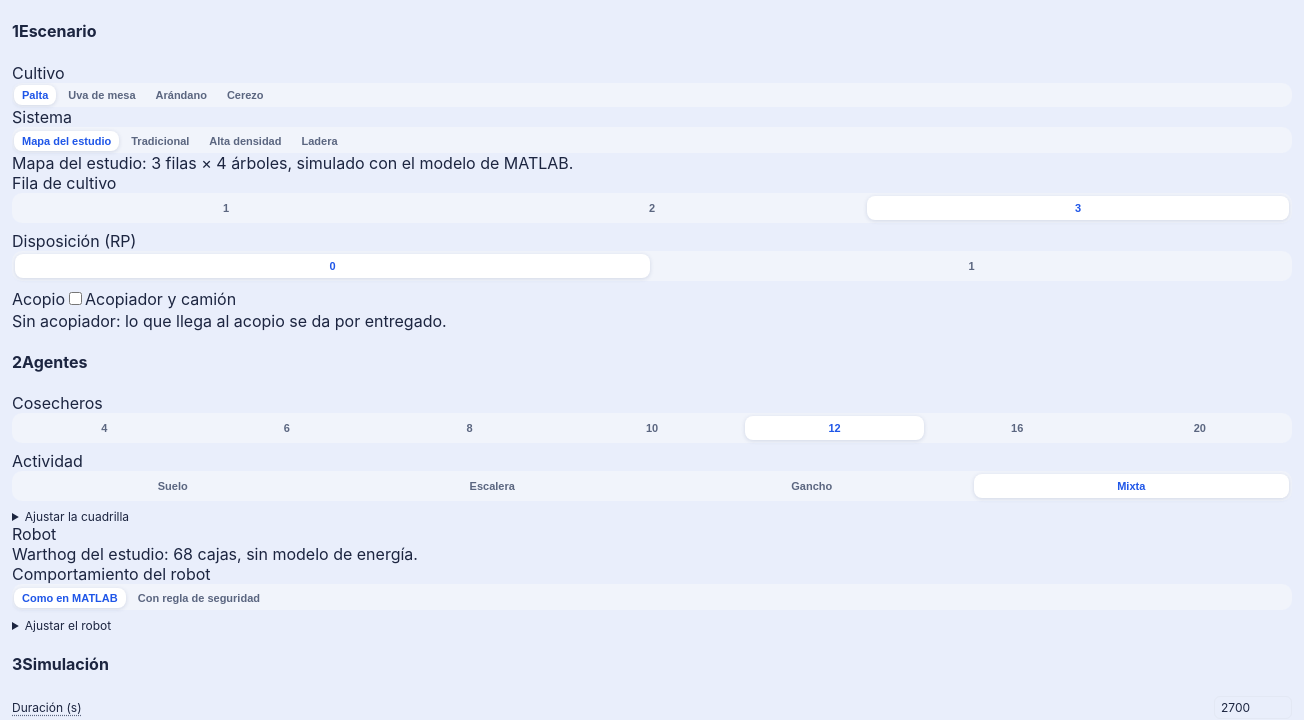
Test: SimSteps (panel izquierdo del Simulador) › edita un parámetro de la cuadrilla, marca el paso Agentes y lo restablece
The image size is (1304, 720).
Step 1. Replace the text in the number field labelled "Ajustar la cuadrilla" with "1.1" → coordinates (77, 517), box [25, 509, 129, 524]
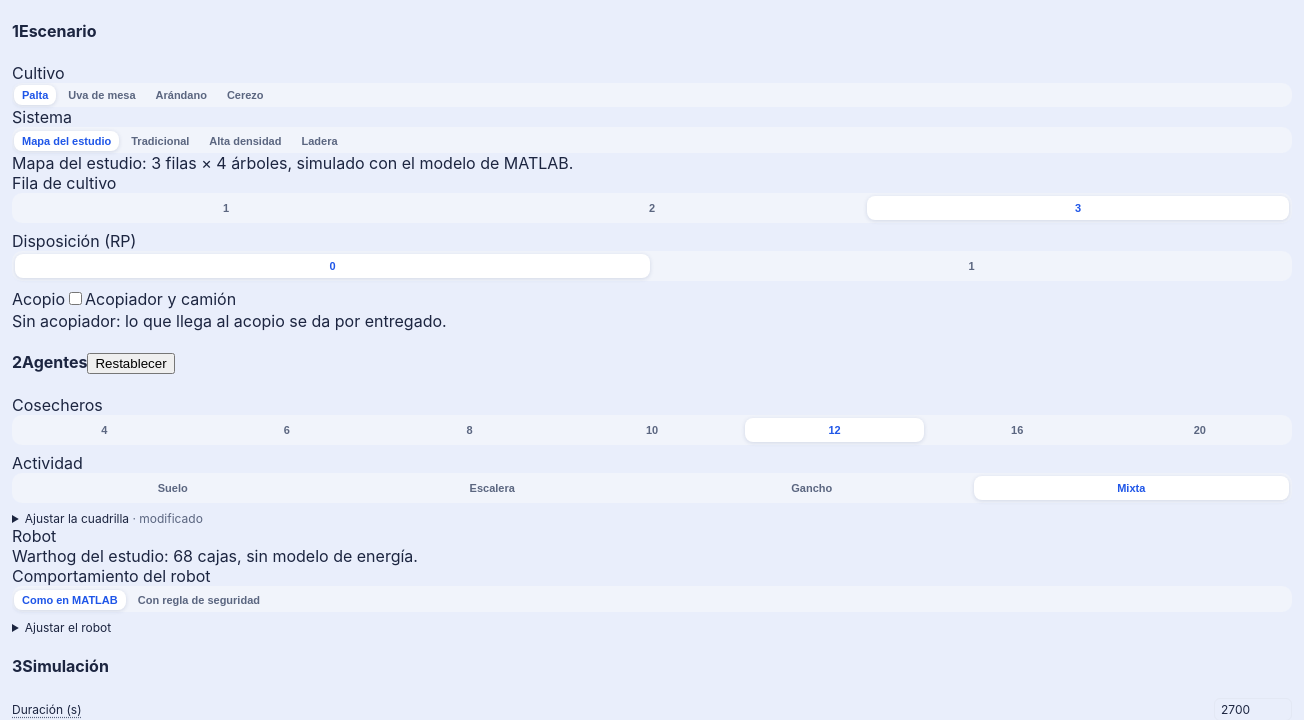
Now the heading with test id "crew-params" shows "modificado", box [25, 511, 203, 526]
Step 2. Click the button with test id "reset-2" → coordinates (131, 363), box [88, 353, 175, 374]
(page scrolled)
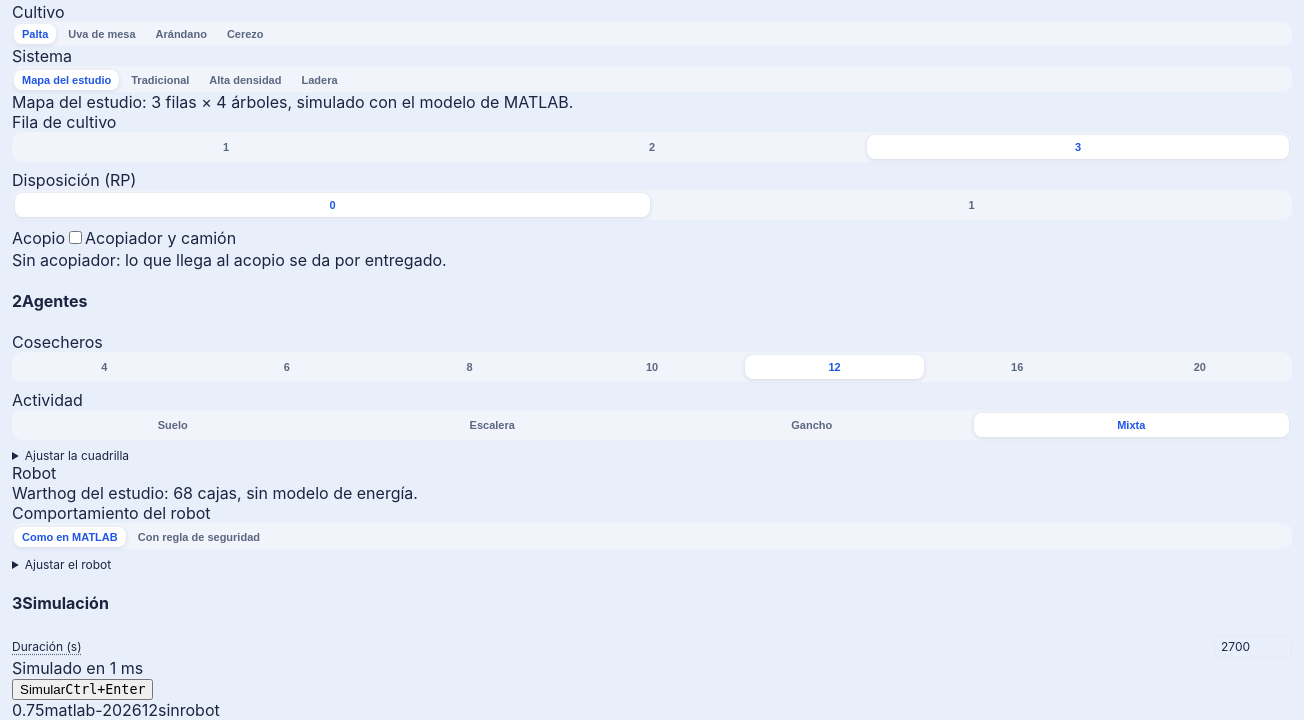
Now the text with test id "walk" reads "0.75", box [12, 700, 44, 719]
